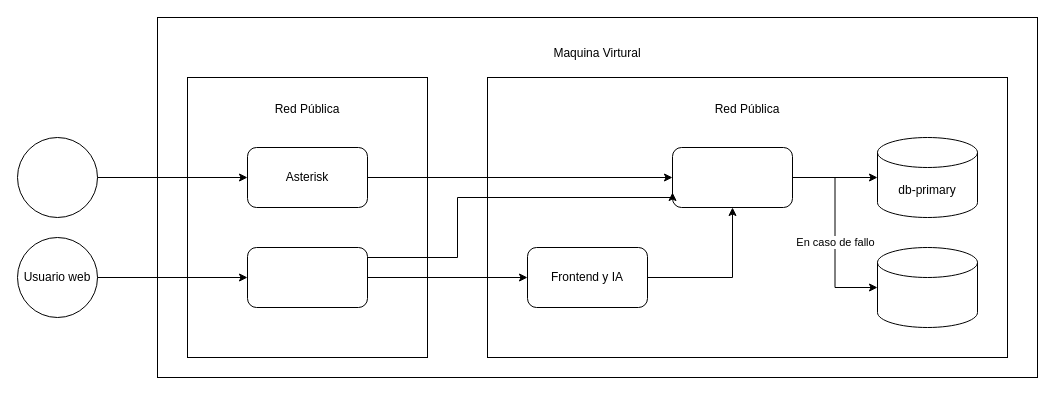
Image size: 1055x395. Some labels were removed from this diagram. Here are the shapes that lost their labels. From the top down, the centre of each, then its label:
the point at 57,177: Usuario telefonico
the point at 732,177: Backend
the point at 307,277: Gateway
the point at 927,287: db-replica
